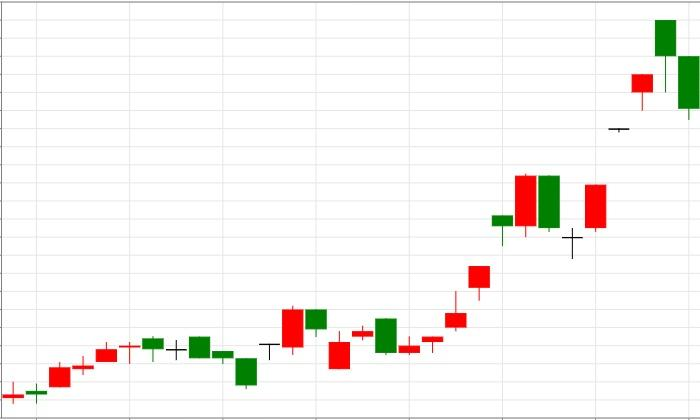three_white_soldiers_rise: (352, 291, 467, 355)
